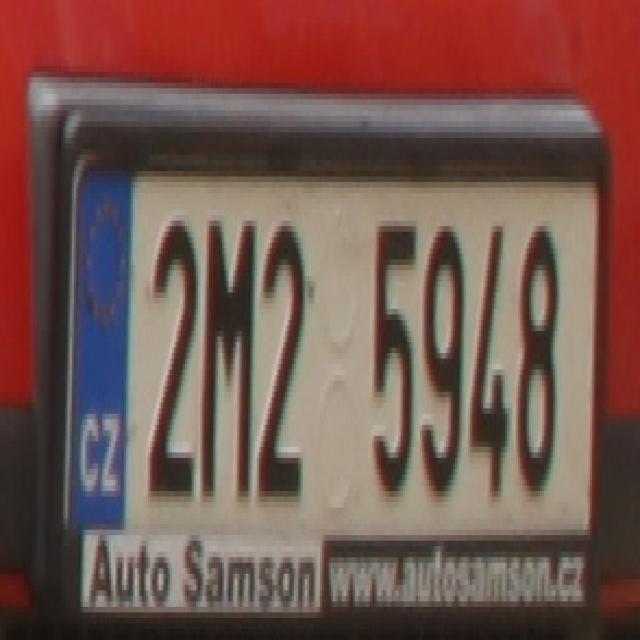2: (139, 204, 194, 497), (257, 220, 305, 492)
4: (466, 210, 514, 508)
5: (368, 210, 416, 508)
8: (518, 215, 560, 502)
9: (418, 220, 461, 492)
M: (196, 210, 252, 508)
